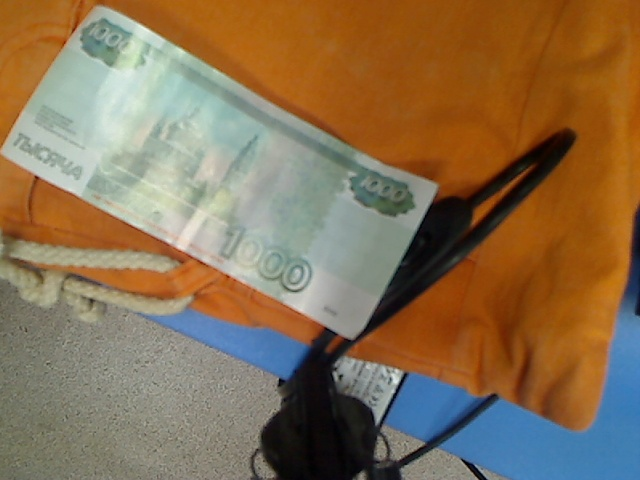banknotes: (1, 4, 441, 340)
